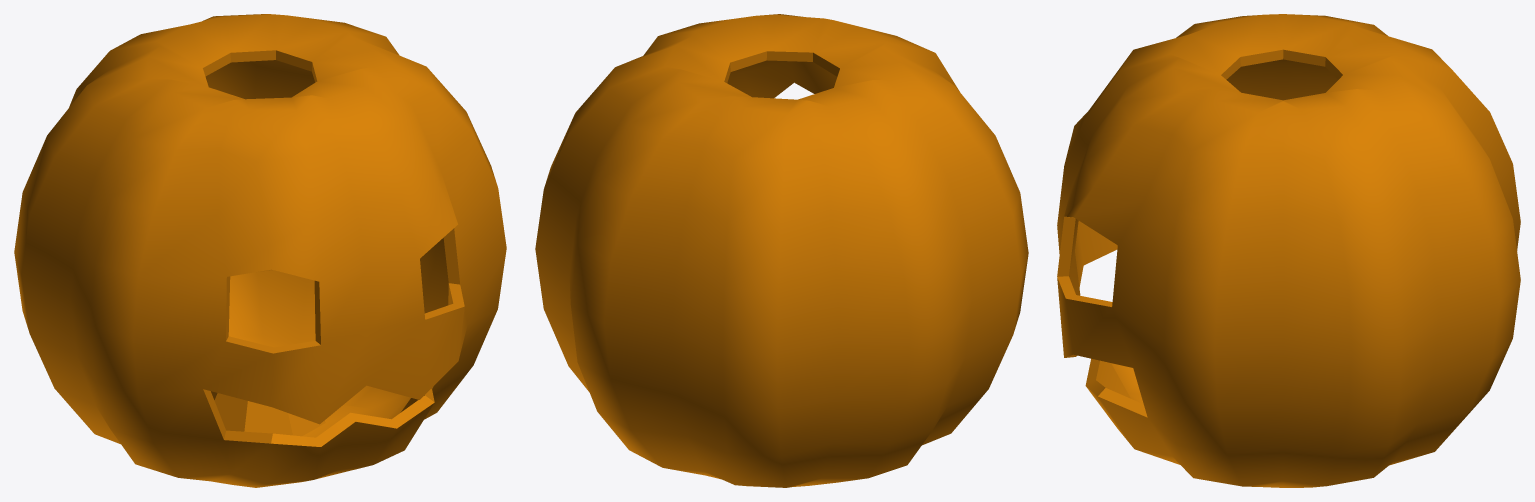
Rendered from JackOLantern.fbx.
3 renders of one model, left to right at view 1: azimuth 30°, elevation 25°; view 2: azimuth 150°, elevation 25°; view 3: azimuth 270°, elevation 25°, orthographic.
Parts seen in each view (by area): view 1: Pumpkin, Light; view 2: Pumpkin; view 3: Pumpkin.
Part boxes in pixels (bbox=[...]): Pumpkin: bbox=[14, 14, 506, 487]; Light: bbox=[211, 391, 325, 436]; Pumpkin: bbox=[535, 14, 1028, 487]; Pumpkin: bbox=[1057, 14, 1520, 487].
Bounding box in the file's own units: 8.16 × 7.34 × 7.97.
